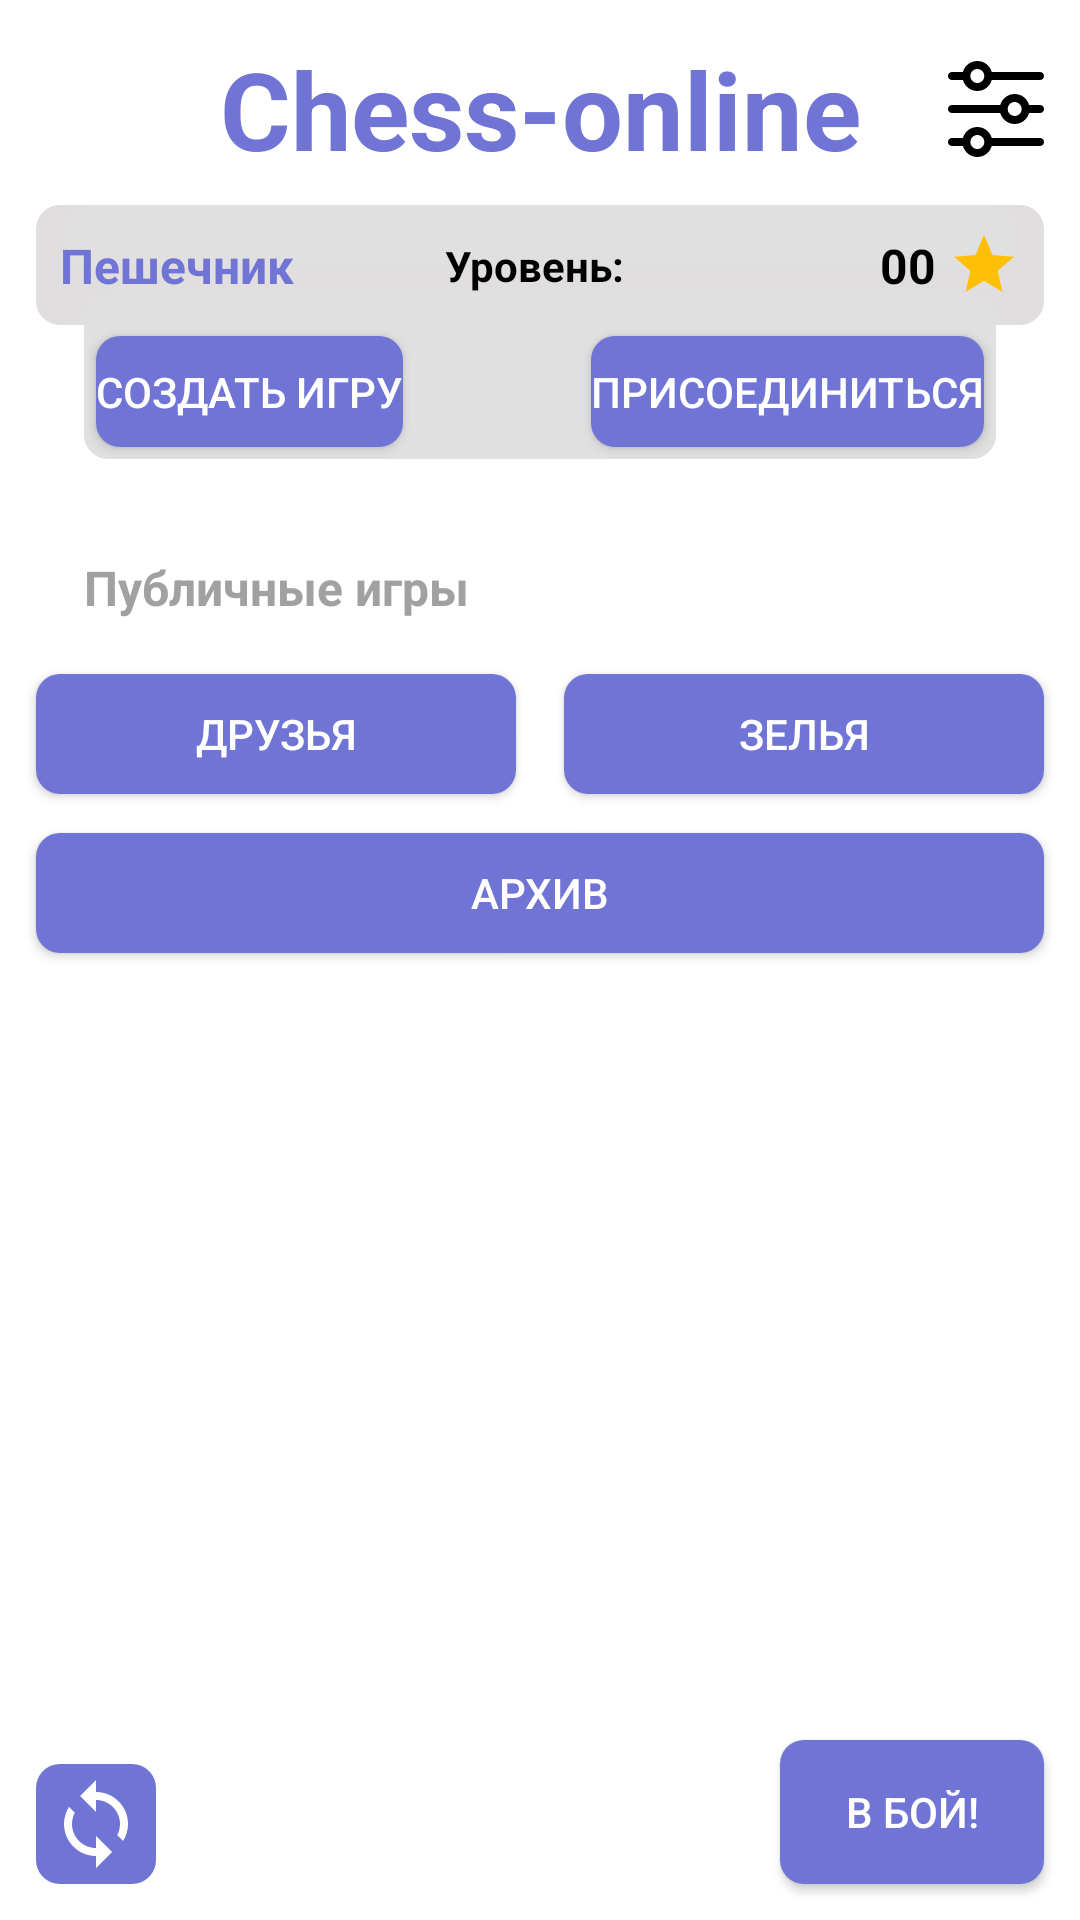

Icon bounding boxes for this 1080w x 1920h phone screenshot, format {"x1": x1, "y1": y1, "x2": x2, "y2": y2}:
settings: {"x1": 948, "y1": 61, "x2": 1044, "y2": 157}
star: {"x1": 954, "y1": 235, "x2": 1014, "y2": 292}
sync: {"x1": 36, "y1": 1764, "x2": 156, "y2": 1884}
